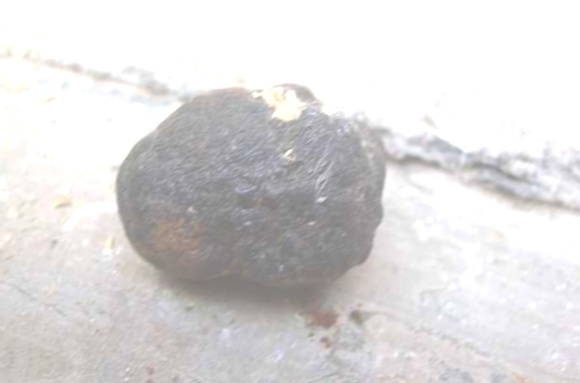halobolite: (95, 57, 398, 312)
